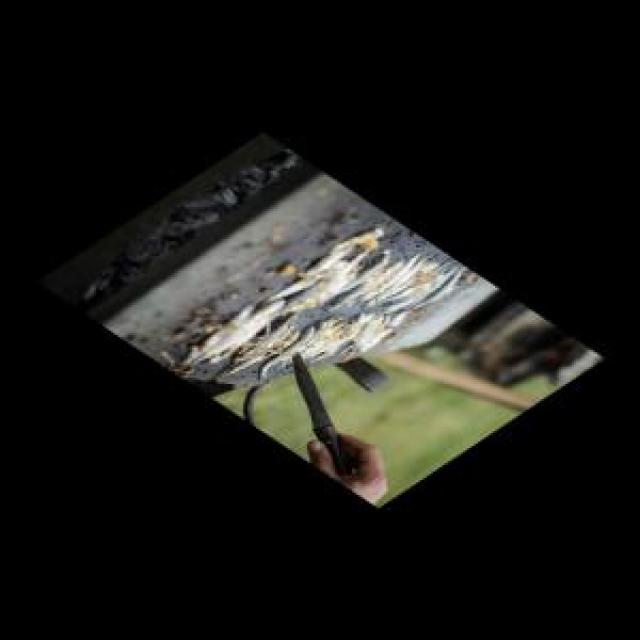knife: (282, 344, 361, 484)
